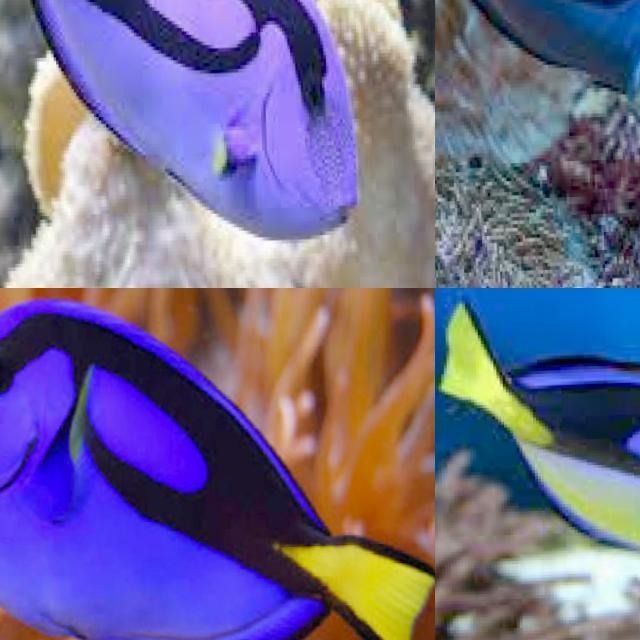BlueTang: (0, 288, 435, 640), (0, 0, 375, 280), (435, 288, 640, 591), (435, 0, 640, 178)
